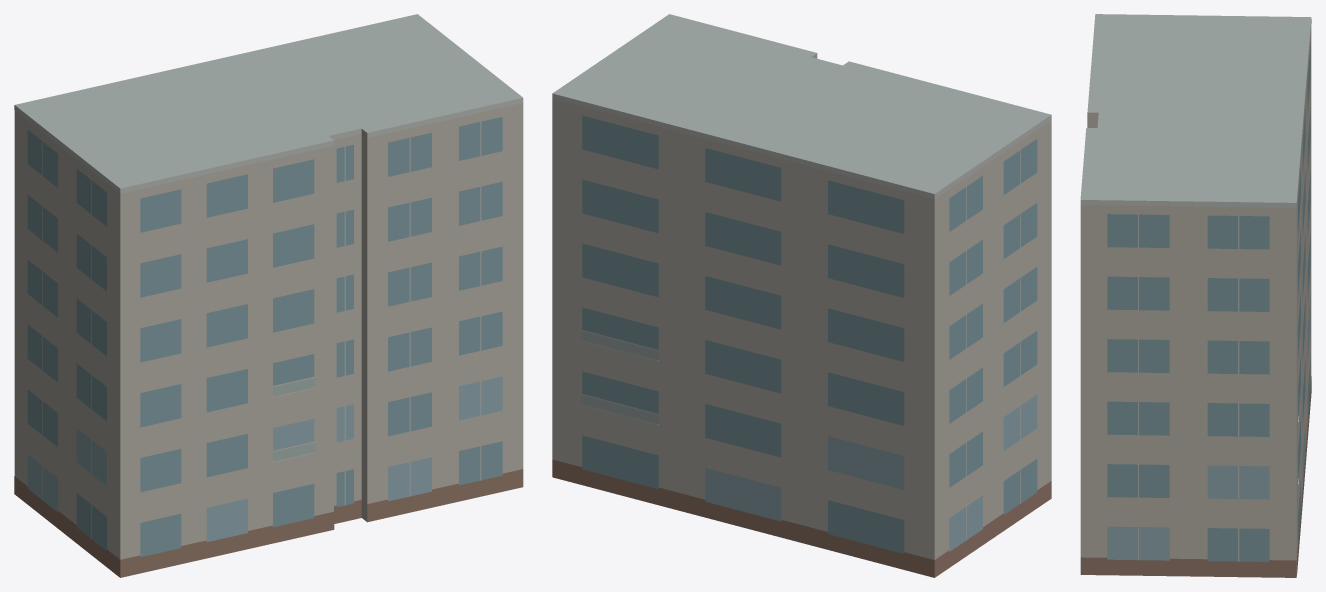
The model's file is survey-upis-32664681.glb.
3 views of the same model, side by side, from view 1: azimuth 30°, elevation 25°; view 2: azimuth 150°, elevation 25°; view 3: azimuth 270°, elevation 25° (orthographic). The views are drawn at different scales.
Parts seen in each view (by area): view 1: survey-upis-32664681.tmp; view 2: survey-upis-32664681.tmp; view 3: survey-upis-32664681.tmp.
Boxes of the visible parts, left/top/right/bottom form: survey-upis-32664681.tmp: left=14, top=14, right=523, bottom=577; survey-upis-32664681.tmp: left=552, top=14, right=1051, bottom=577; survey-upis-32664681.tmp: left=1080, top=14, right=1311, bottom=577.
Size of the model in its own units: 19.78 by 18.3 by 10.23.
